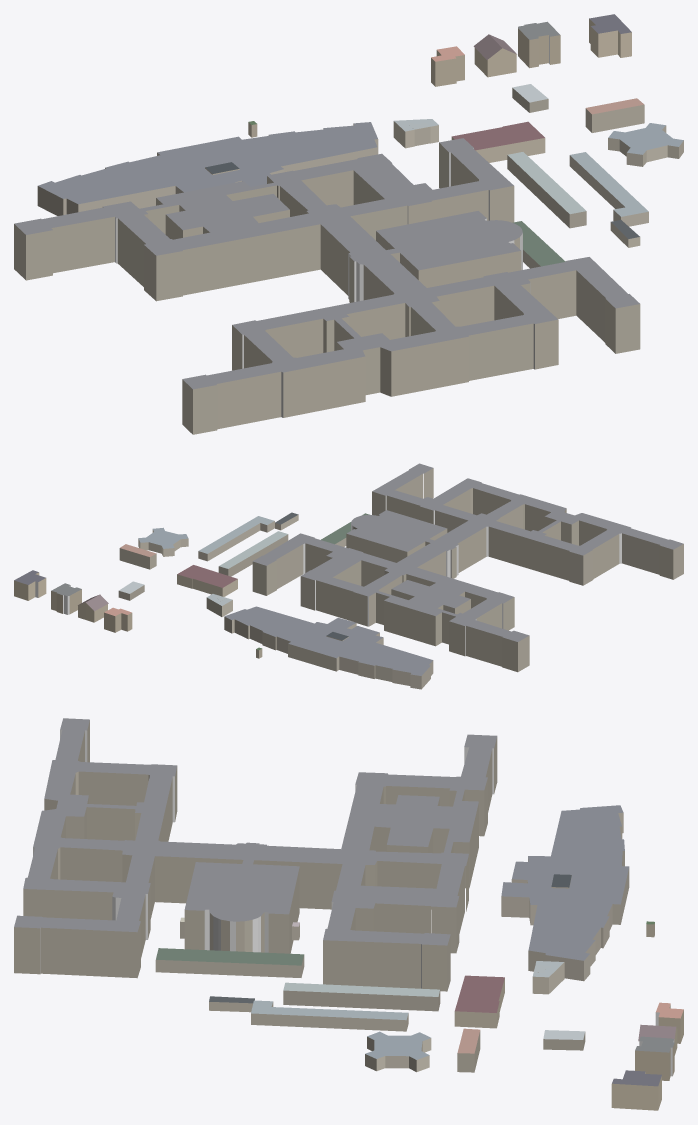
3 renders of one model, top to bottom at view 1: azimuth 30°, elevation 25°; view 2: azimuth 150°, elevation 25°; view 3: azimuth 270°, elevation 25°, orthographic. The views are drawn at different scales.
Visible parts, largest first — view 1: tuile; view 2: tuile; view 3: tuile.
Part boxes in pixels (box(x1,y1,x2,y2)): tuile: box(14, 14, 683, 434); tuile: box(14, 463, 683, 689); tuile: box(14, 718, 683, 1110).
Bounding box in the file's own units: 299 × 18.95 × 240.
